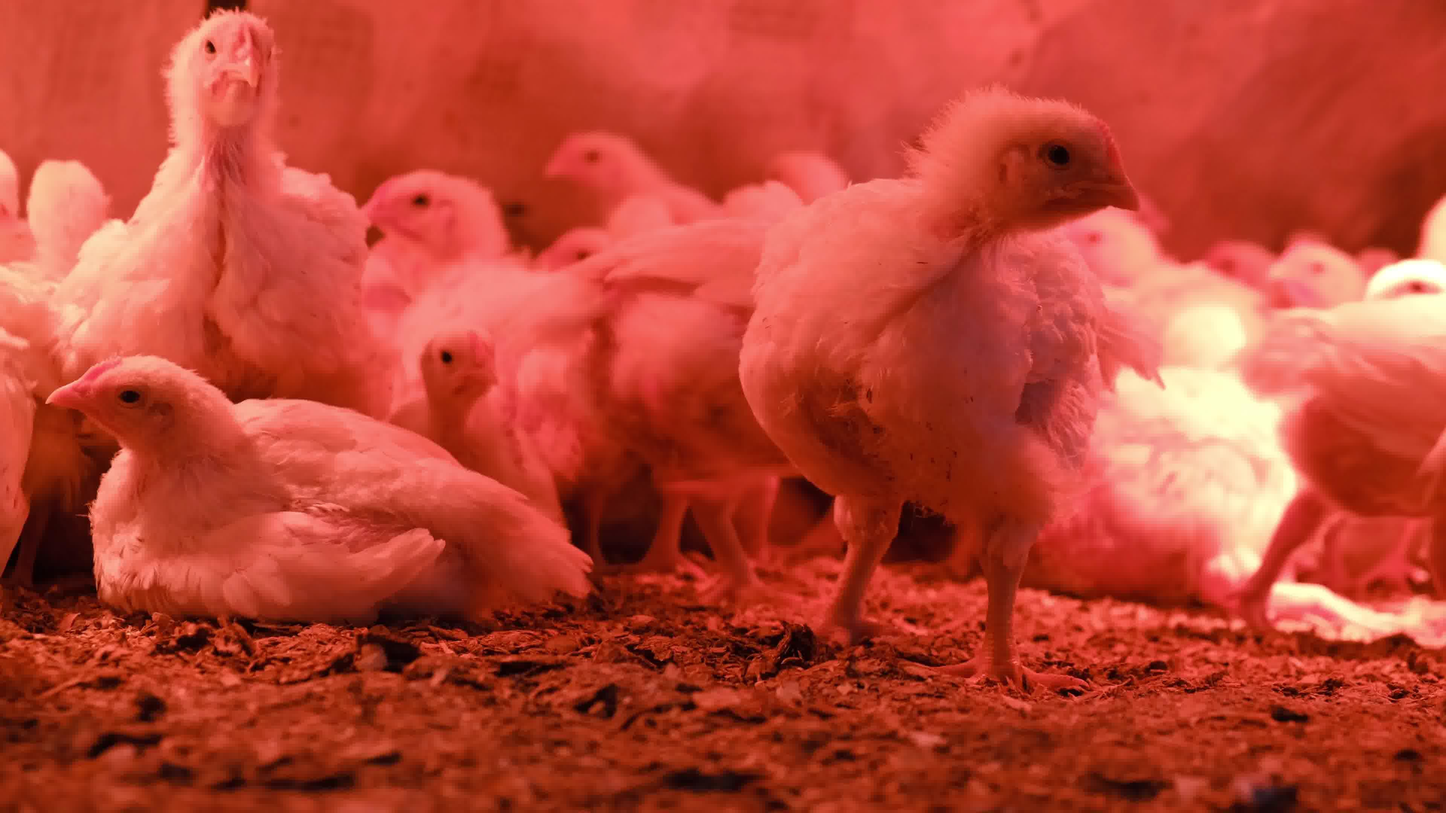AbNormal: (49, 358, 590, 623), (1022, 371, 1315, 593), (394, 330, 563, 571)
Normal: (737, 88, 1149, 691), (91, 14, 369, 405), (503, 224, 787, 604), (1239, 263, 1446, 641), (1055, 209, 1250, 363), (542, 128, 720, 247), (367, 172, 509, 273), (24, 151, 113, 289), (1268, 237, 1367, 309)
